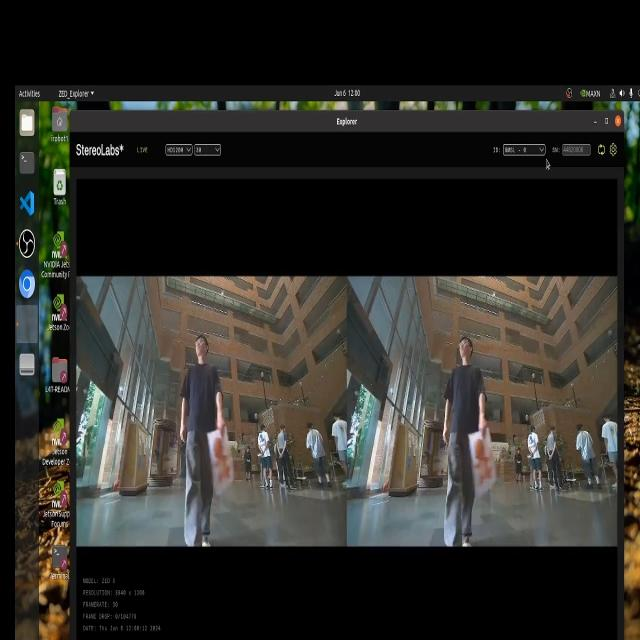red: (463, 442, 501, 508), (208, 432, 239, 492)
